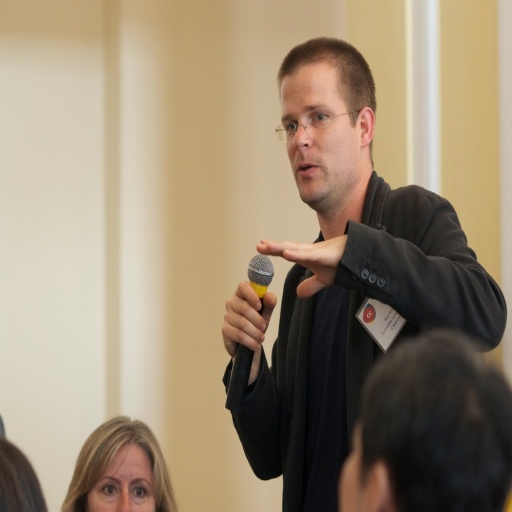hand: (227, 274, 281, 392), (254, 234, 346, 300)
